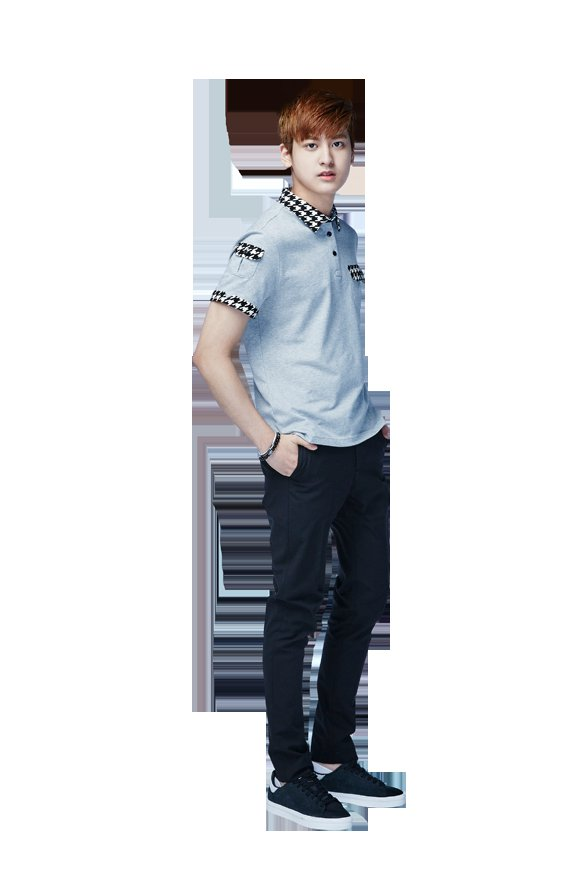noMask: (266, 92, 360, 201)
